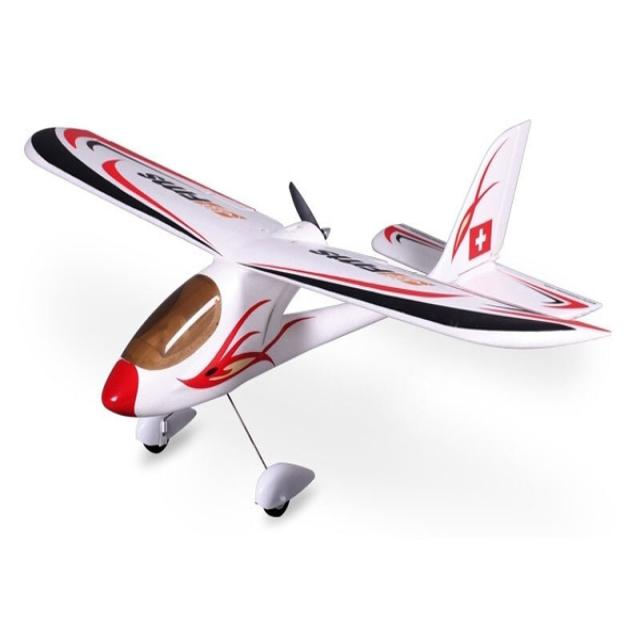iha: (28, 114, 609, 517)
